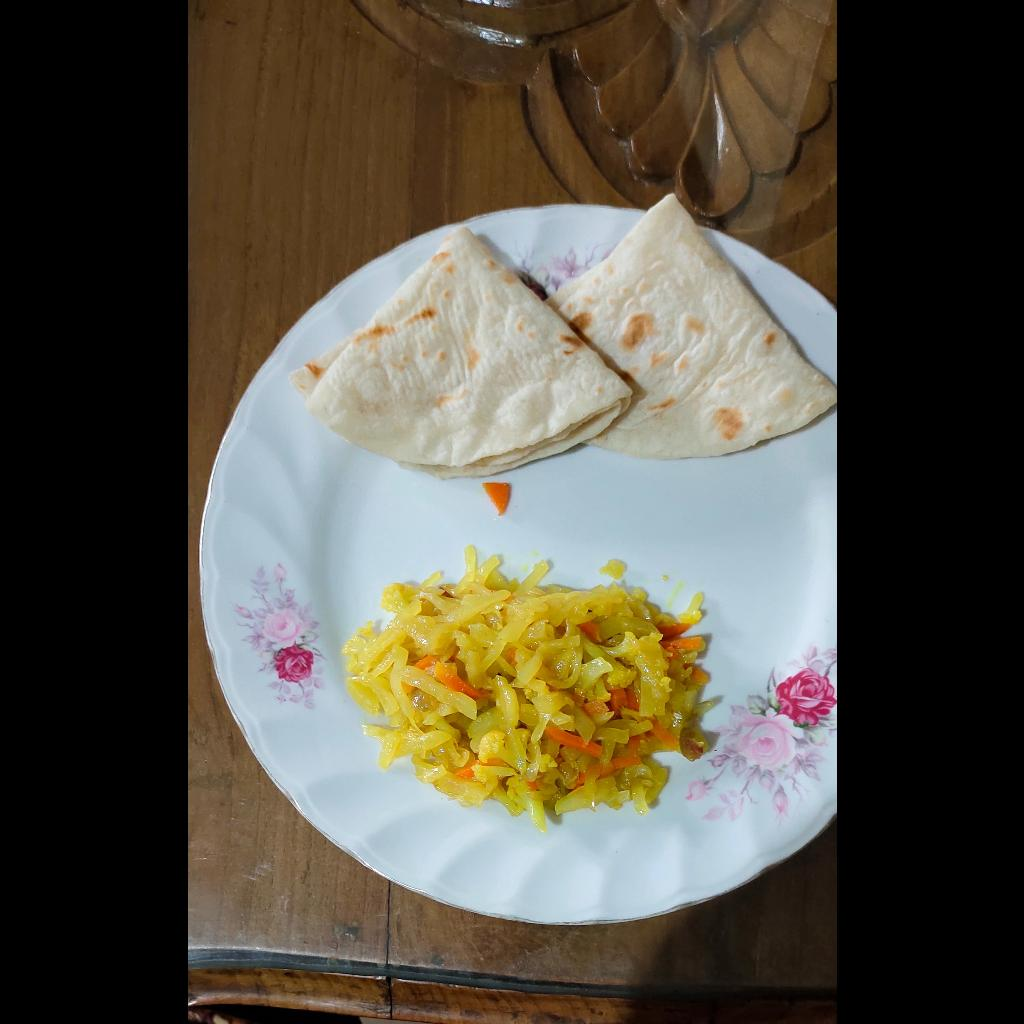ruti: (288, 194, 837, 475)
vaji: (344, 547, 712, 835)
